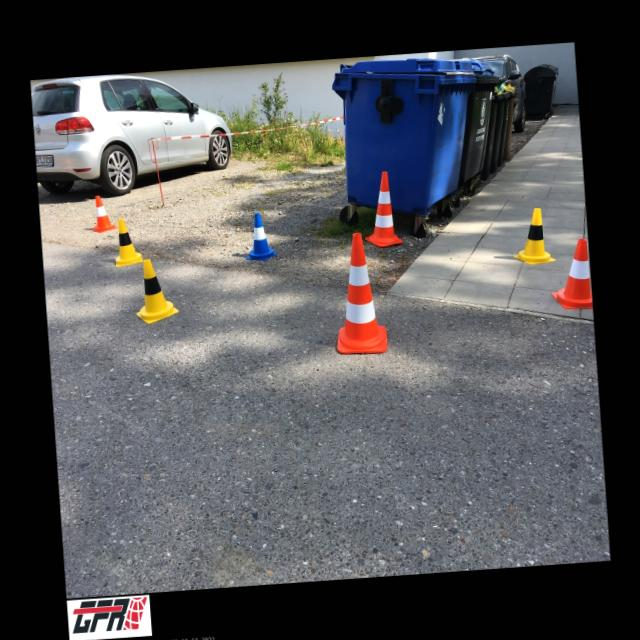blue_cone: (242, 211, 277, 261)
large_orange_cone: (330, 232, 388, 353), (362, 170, 402, 245)
orange_cone: (547, 237, 592, 310), (90, 194, 118, 233)
yellow_cone: (132, 257, 178, 324), (510, 207, 556, 264), (112, 217, 142, 266)
